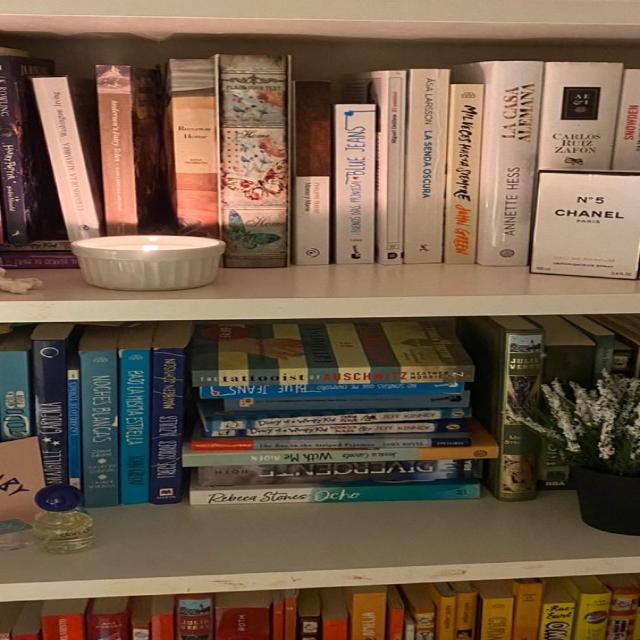book: (220, 56, 288, 266), (477, 61, 543, 265), (33, 77, 98, 240), (401, 67, 450, 263), (536, 62, 623, 170), (169, 58, 218, 238), (197, 459, 484, 487), (496, 331, 543, 500), (443, 84, 482, 264), (334, 105, 375, 264), (293, 81, 329, 262), (96, 65, 134, 235), (206, 407, 473, 431), (183, 447, 500, 466), (81, 351, 119, 506), (190, 485, 478, 505), (194, 367, 473, 386), (150, 348, 182, 504), (119, 349, 150, 505), (381, 70, 406, 263), (2, 55, 26, 244), (199, 381, 463, 398), (224, 393, 468, 411), (190, 439, 469, 450), (35, 339, 64, 437), (0, 351, 30, 438), (68, 369, 80, 484)
